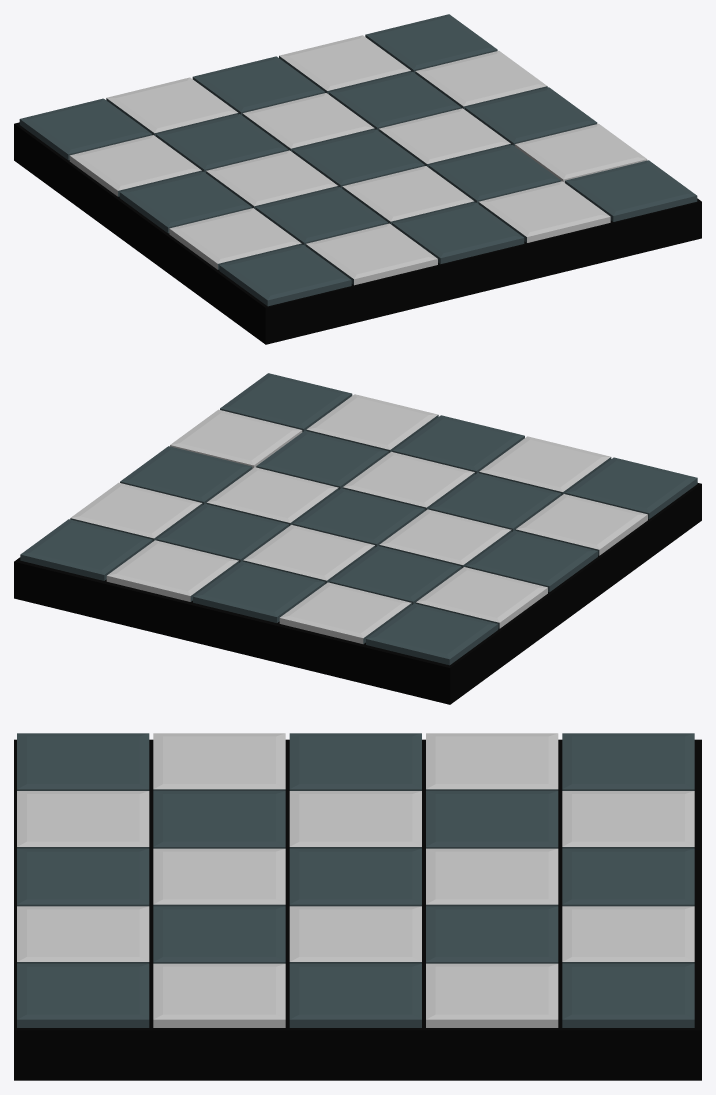
The model's file is broken_FlaskSquare.fbx_floor3.fbx_floor4.fbx.
3 views of the same model, one above another, from view 1: azimuth 30°, elevation 25°; view 2: azimuth 150°, elevation 25°; view 3: azimuth 270°, elevation 25° (orthographic). The views are drawn at different scales.
Parts seen in each view (by area): view 1: Cube.009; view 2: Cube.009; view 3: Cube.009.
Boxes of the visible parts, box(x1,y1,x2,y2) form: Cube.009: box(14, 14, 701, 344); Cube.009: box(14, 373, 701, 704); Cube.009: box(14, 733, 701, 1080).
Bounding box in the file's own units: 214 × 20.44 × 214.
